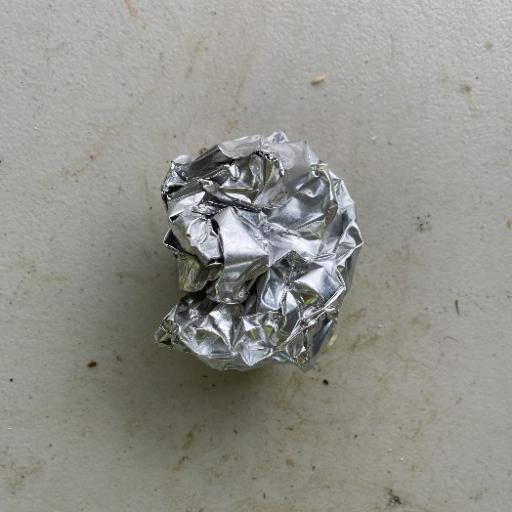Metal: (154, 129, 364, 374)
